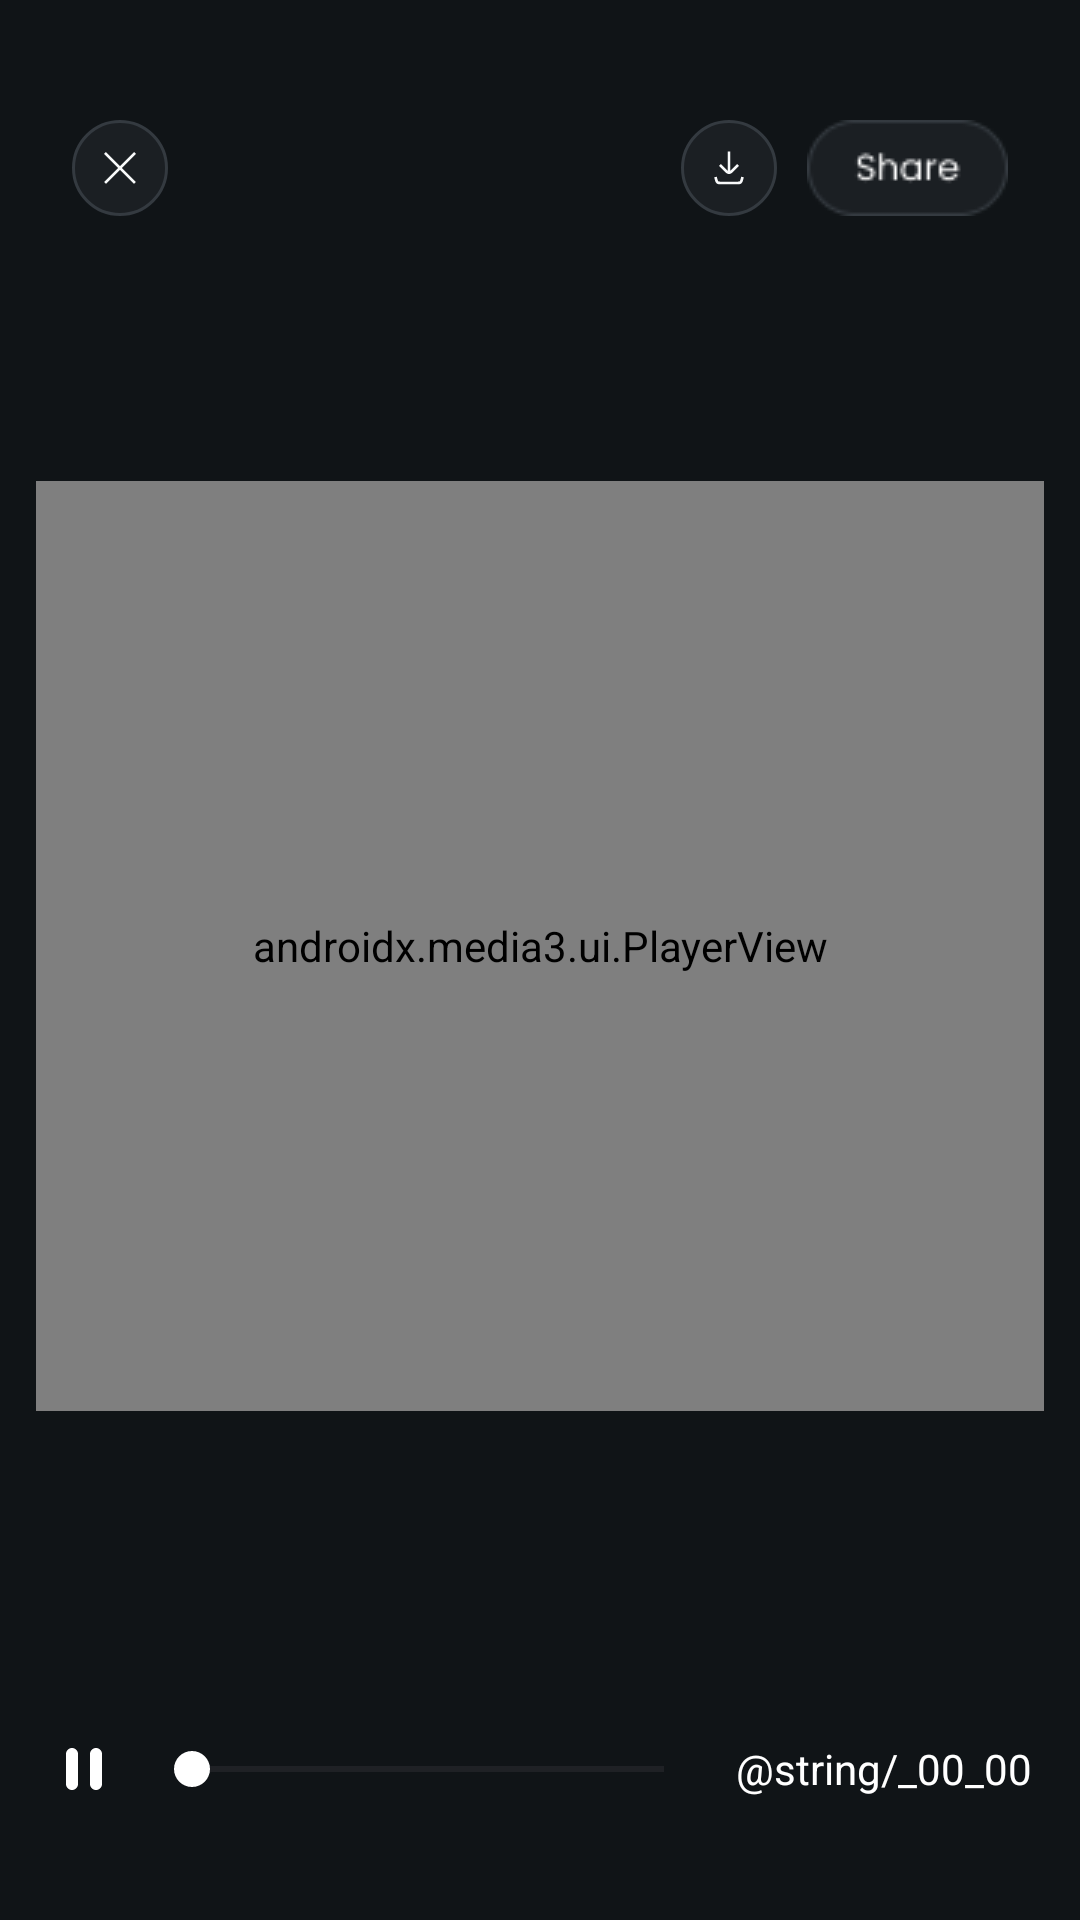

Screen size 1080px×1920px. Icon name, then its box in pixels as (x1, y1, x2, y2):
close: (72, 120, 168, 216)
pause: (66, 1748, 102, 1790)
